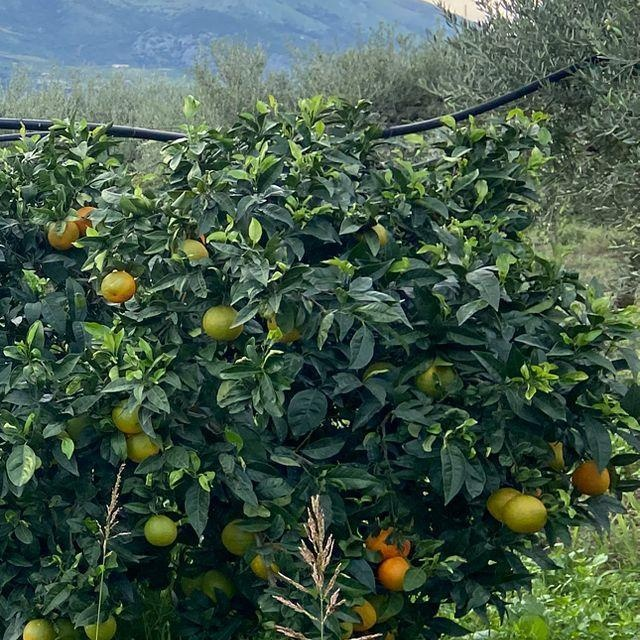orange: (500, 495, 548, 533), (202, 301, 244, 343), (267, 303, 309, 345), (367, 523, 413, 559), (484, 482, 524, 522), (372, 551, 414, 589), (572, 458, 612, 496), (101, 265, 139, 303), (107, 393, 145, 431), (125, 424, 161, 464), (221, 517, 257, 555), (198, 568, 236, 604), (415, 361, 451, 397), (141, 513, 179, 547), (85, 605, 121, 640), (45, 216, 83, 248), (355, 219, 387, 255), (347, 595, 379, 629), (73, 206, 103, 240), (248, 545, 276, 577), (543, 437, 569, 471), (176, 239, 208, 265), (50, 614, 82, 640), (20, 617, 56, 640)
